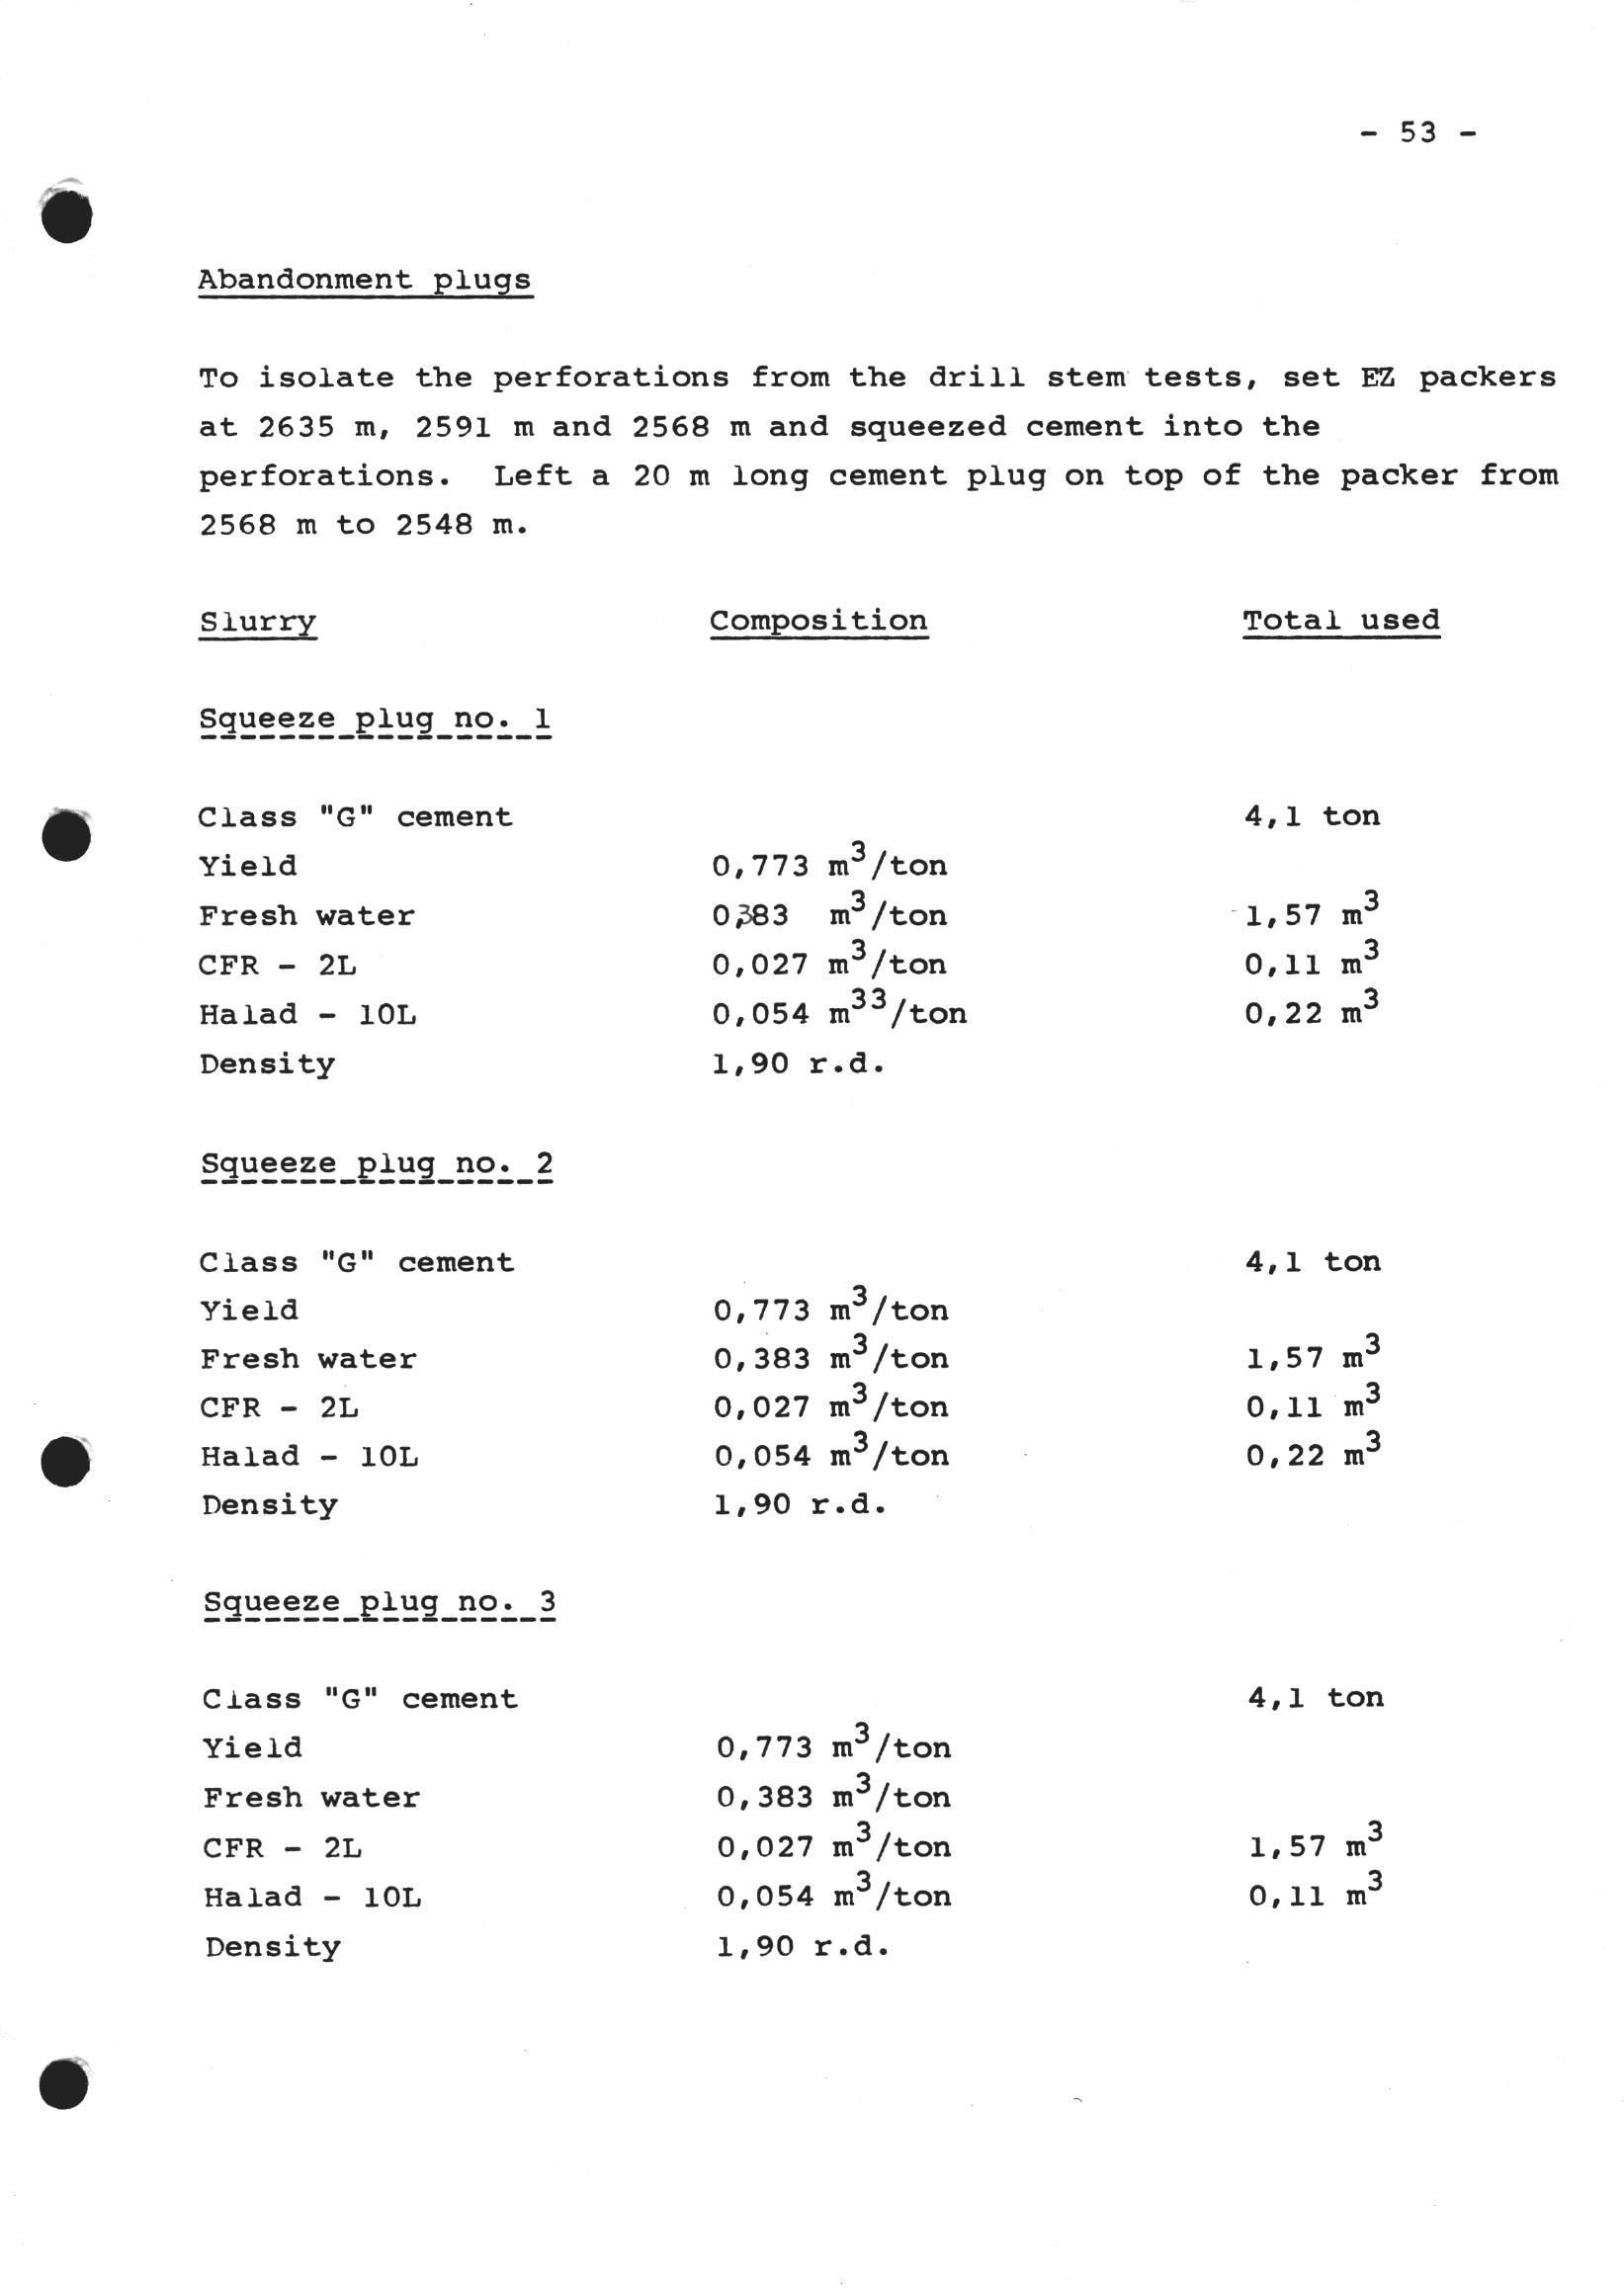table: (167, 592, 1501, 2002)
text: (149, 251, 1578, 559)
